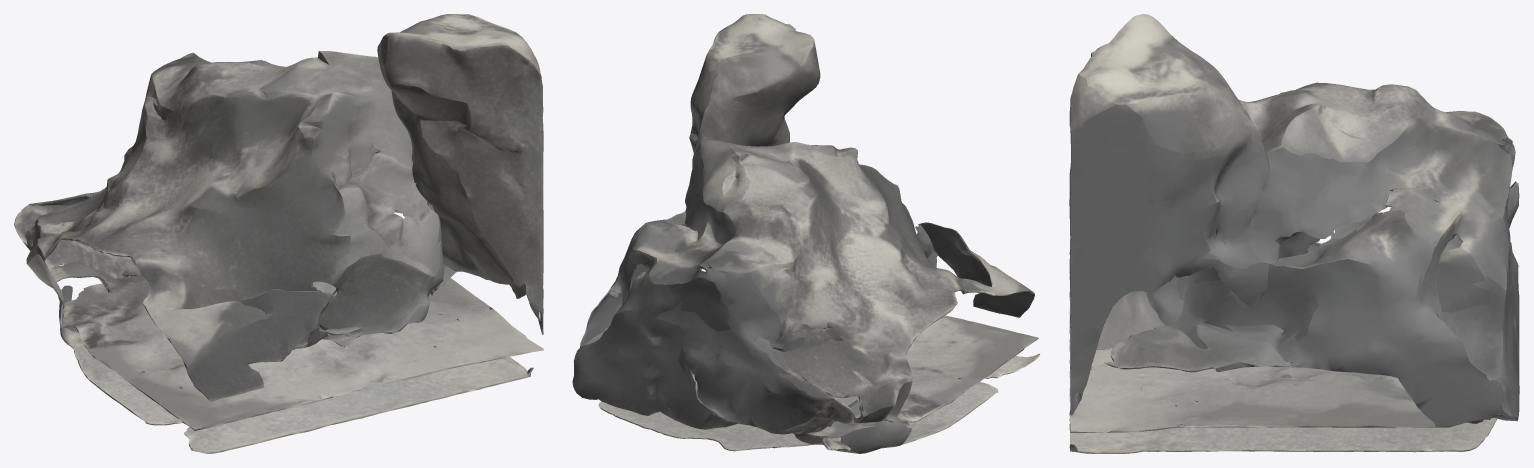
Rendered from retry_M4.glb.
The picture shows the model from 3 angles, left to right: view 1: azimuth 30°, elevation 25°; view 2: azimuth 150°, elevation 25°; view 3: azimuth 270°, elevation 25°; orthographic projection. The views are drawn at different scales.
Parts seen in each view (by area): view 1: world; view 2: world; view 3: world.
Boxes of the visible parts, x1=… form: world: x1=14, y1=14, x2=543, y2=453; world: x1=572, y1=14, x2=1039, y2=453; world: x1=1069, y1=14, x2=1519, y2=453.
Size of the model in its own units: 0.35 by 0.3312 by 0.3507.
1 material, 1 textured.
